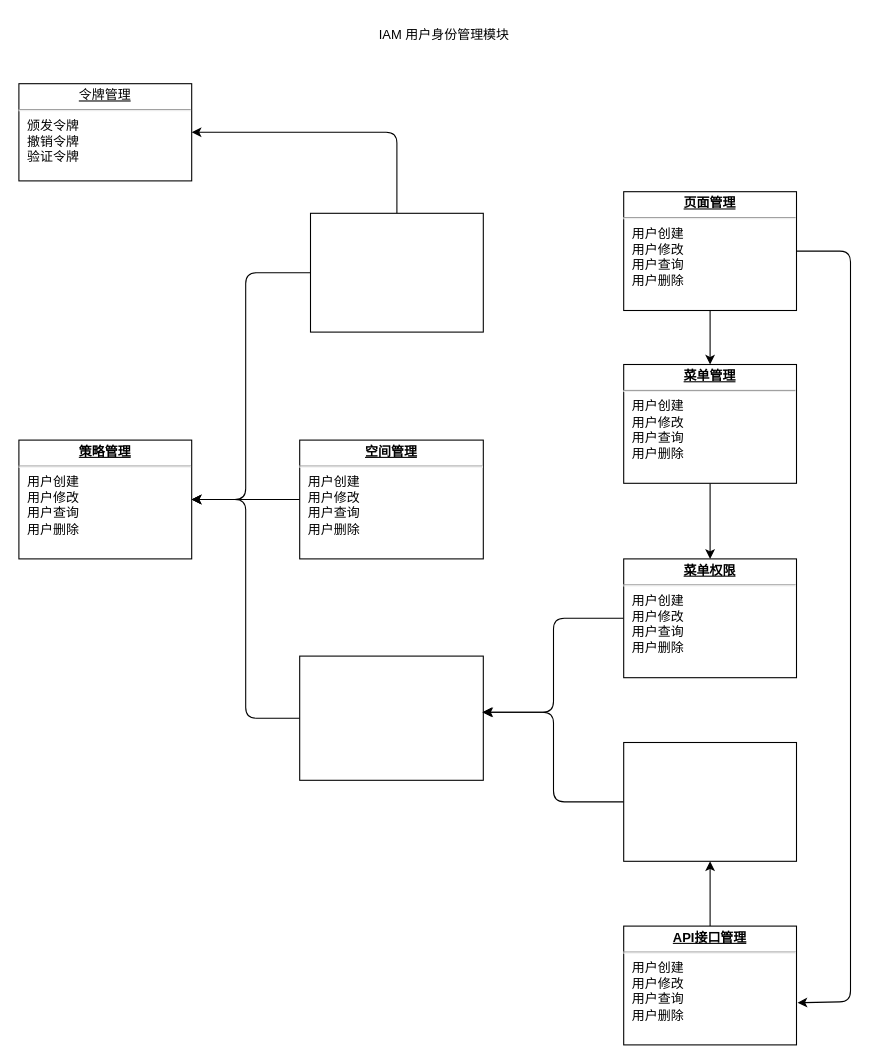
The diagram is 878 pixels wide and 1064 high, and some of its shapes have lost their labels. Here are the shapes that lost their labels. From the top down, the centre of each, then its label:
At point (396, 272): "用户管理 用户创建 用户修改 用户查询 用户删除".
At point (391, 717): "角色管理 用户创建 用户修改 用户查询 用户删除".
At point (709, 801): "API权限 用户创建 用户修改 用户查询 用户删除".
